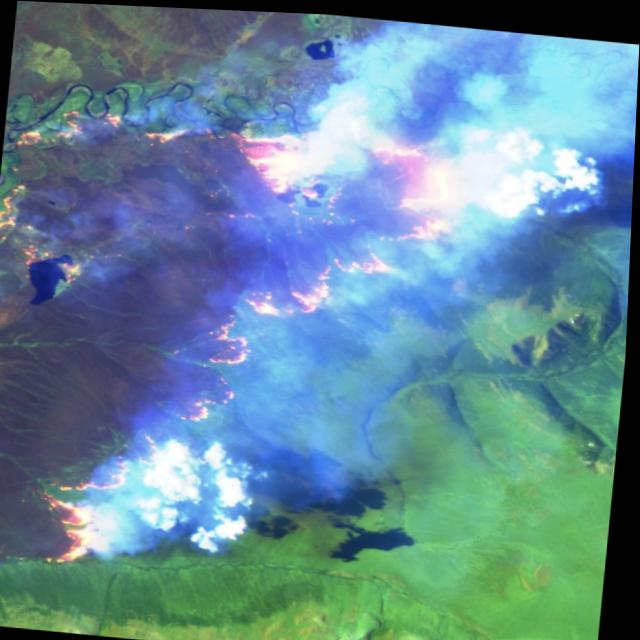fire: (0, 67, 507, 620)
